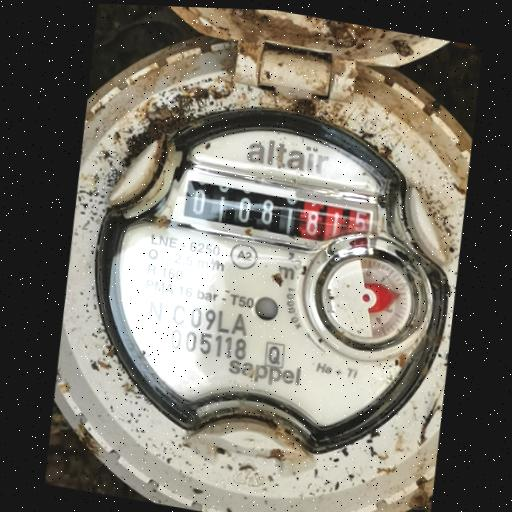0: (229, 189, 260, 229), (183, 180, 213, 220)
1: (321, 206, 352, 246), (207, 185, 237, 225), (275, 197, 305, 237)
5: (347, 210, 371, 239)
8: (252, 194, 283, 234), (298, 202, 328, 242)
border_water_meter_number: (175, 170, 382, 260)
